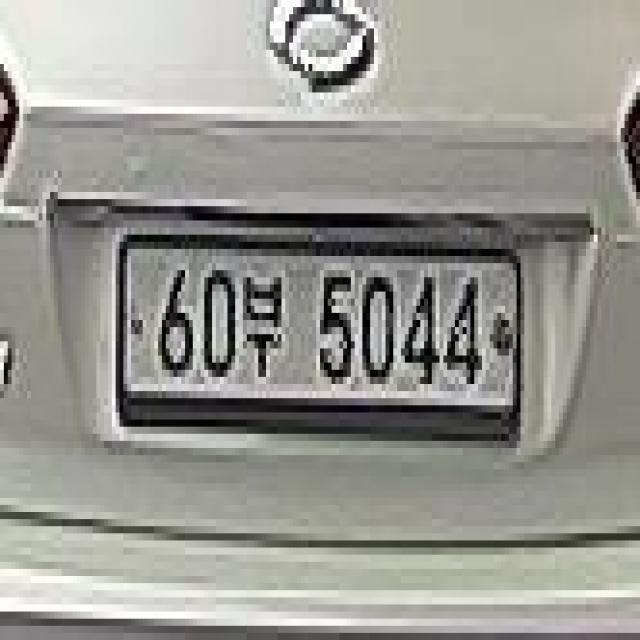0: (358, 266, 399, 384), (200, 264, 238, 376)
4: (446, 268, 486, 389), (403, 268, 442, 386)
5: (316, 268, 354, 378)
6: (154, 261, 196, 375)
bu: (242, 264, 284, 378)
license_plate: (108, 222, 530, 458)
